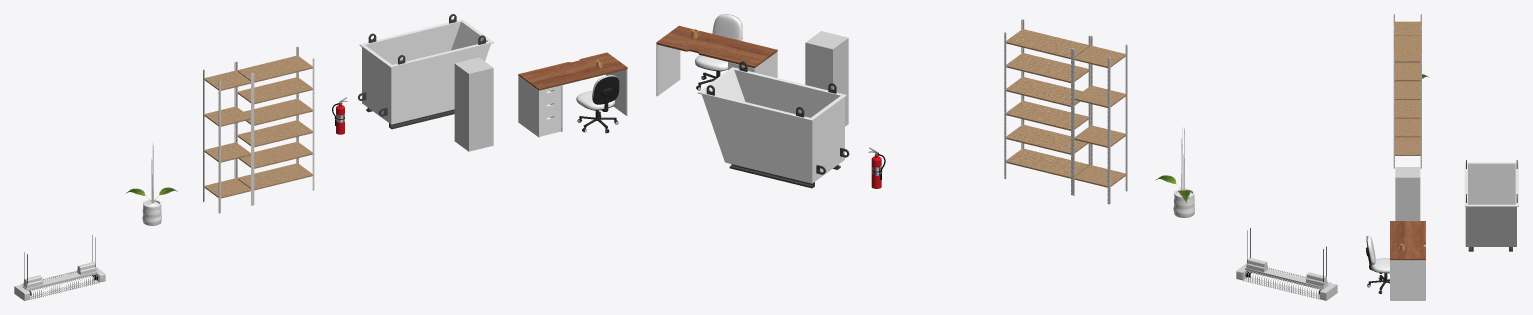
File: non_machine_parts.glb
The picture shows the model from 3 angles, left to right: view 1: azimuth 30°, elevation 25°; view 2: azimuth 150°, elevation 25°; view 3: azimuth 270°, elevation 25°; orthographic projection. The views are drawn at different scales.
Visible parts, largest first — view 1: spänekiste, Cube.004, PLAYER_SIZE_IGNORE, Cube.006, Desk_Wood, Light - 2, Desk_Compartment, Chair, Cube.005, Cube.003, Desk_Support, Test; view 2: spänekiste, Cube.004, Cube.006, PLAYER_SIZE_IGNORE, Desk_Wood, Light - 2, Cube.005, Chair, Cube.003, Desk_Support, Test, Desk_Compartment; view 3: spänekiste, Cube.004, Desk_Support, Desk_Wood, PLAYER_SIZE_IGNORE, Chair, Cube.003, Cube.006.
Part boxes in pixels (<box>): spänekiste: <box>358,14,493,129</box>; Cube.004: <box>237,55,312,190</box>; PLAYER_SIZE_IGNORE: <box>454,57,493,151</box>; Cube.006: <box>204,70,250,198</box>; Desk_Wood: <box>518,52,627,90</box>; Light - 2: <box>14,235,105,300</box>; Desk_Compartment: <box>518,76,562,137</box>; Chair: <box>576,75,619,133</box>; Cube.005: <box>203,62,252,213</box>; Cube.003: <box>236,46,314,205</box>; Desk_Support: <box>606,69,627,115</box>; Test: <box>142,199,161,225</box>; spänekiste: <box>697,61,849,188</box>; Cube.004: <box>1006,29,1089,178</box>; Cube.006: <box>1074,45,1126,187</box>; PLAYER_SIZE_IGNORE: <box>805,31,848,126</box>; Desk_Wood: <box>656,25,777,68</box>; Light - 2: <box>1236,228,1337,300</box>; Cube.005: <box>1072,36,1127,204</box>; Chair: <box>695,14,742,90</box>; Cube.003: <box>1004,19,1090,195</box>; Desk_Support: <box>656,44,680,96</box>; Test: <box>1173,188,1194,217</box>; Desk_Compartment: <box>728,52,777,77</box>; spänekiste: <box>1464,160,1518,251</box>; Cube.004: <box>1394,35,1421,155</box>; Desk_Support: <box>1390,260,1425,300</box>; Desk_Wood: <box>1390,221,1425,260</box>; PLAYER_SIZE_IGNORE: <box>1395,167,1420,220</box>; Chair: <box>1366,235,1389,293</box>; Cube.003: <box>1393,28,1421,168</box>; Cube.006: <box>1394,21,1421,35</box>.
Size of the model in its own units: 14.48 by 4.04 by 3.69.
34 materials, 5 textured.
